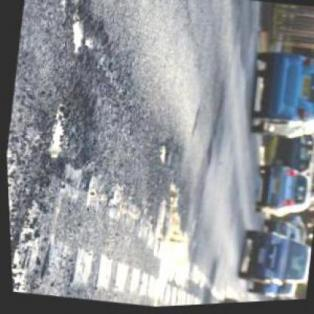Hueco: (41, 90, 97, 173), (64, 0, 119, 67), (154, 144, 168, 168)
